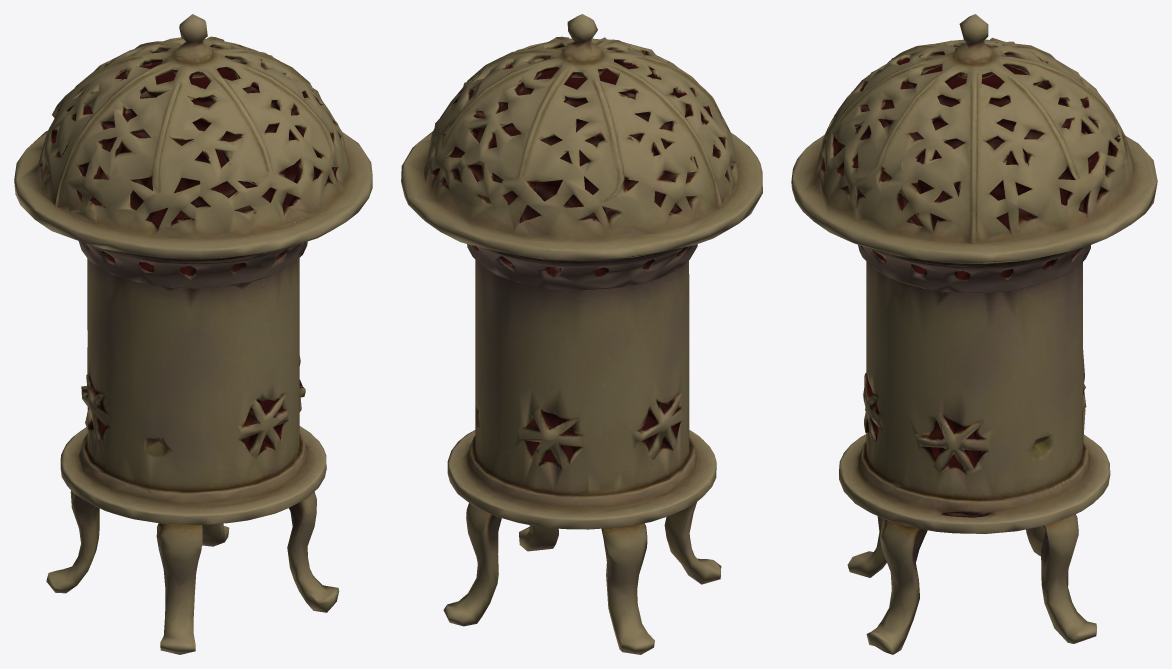
File: ramp_brazier.glb
3 views of the same model, side by side, from view 1: azimuth 30°, elevation 25°; view 2: azimuth 150°, elevation 25°; view 3: azimuth 270°, elevation 25° (orthographic).
Parts seen in each view (by area): view 1: tripo_node_6fb6acde-d658-46e9-84cc-2c06f7ed7db4; view 2: tripo_node_6fb6acde-d658-46e9-84cc-2c06f7ed7db4; view 3: tripo_node_6fb6acde-d658-46e9-84cc-2c06f7ed7db4.
Part boxes in pixels (x1,y1,x2,y2): tripo_node_6fb6acde-d658-46e9-84cc-2c06f7ed7db4: [14, 14, 372, 654]; tripo_node_6fb6acde-d658-46e9-84cc-2c06f7ed7db4: [401, 14, 762, 654]; tripo_node_6fb6acde-d658-46e9-84cc-2c06f7ed7db4: [791, 14, 1157, 654].
Bounding box in the file's own units: 0.5634 × 1 × 0.5612.
1 material, 1 textured.
